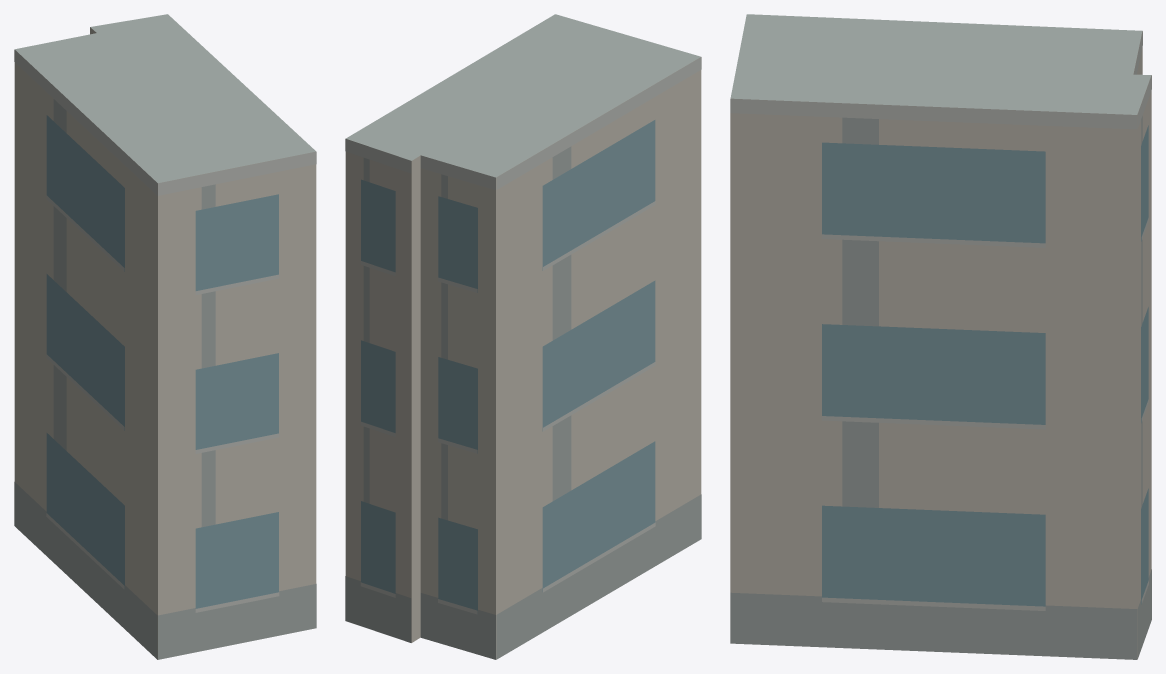
Rendered from survey-upis-32553497.glb.
The picture shows the model from 3 angles, left to right: view 1: azimuth 30°, elevation 25°; view 2: azimuth 150°, elevation 25°; view 3: azimuth 270°, elevation 25°; orthographic projection. The views are drawn at different scales.
Visible parts, largest first — view 1: survey-upis-32553497.tmp; view 2: survey-upis-32553497.tmp; view 3: survey-upis-32553497.tmp.
Boxes of the visible parts, left/top/right/bottom form: survey-upis-32553497.tmp: left=14, top=14, right=316, bottom=659; survey-upis-32553497.tmp: left=345, top=14, right=701, bottom=659; survey-upis-32553497.tmp: left=730, top=14, right=1151, bottom=659.
Size of the model in its own units: 3.65 by 9.15 by 6.42.
